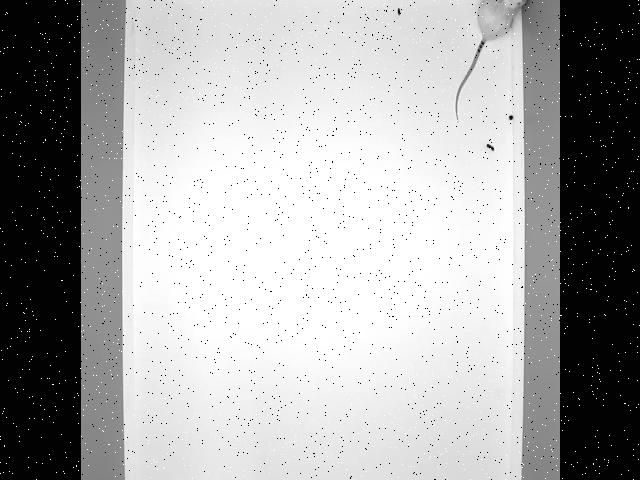Tikus: (454, 0, 528, 123)
